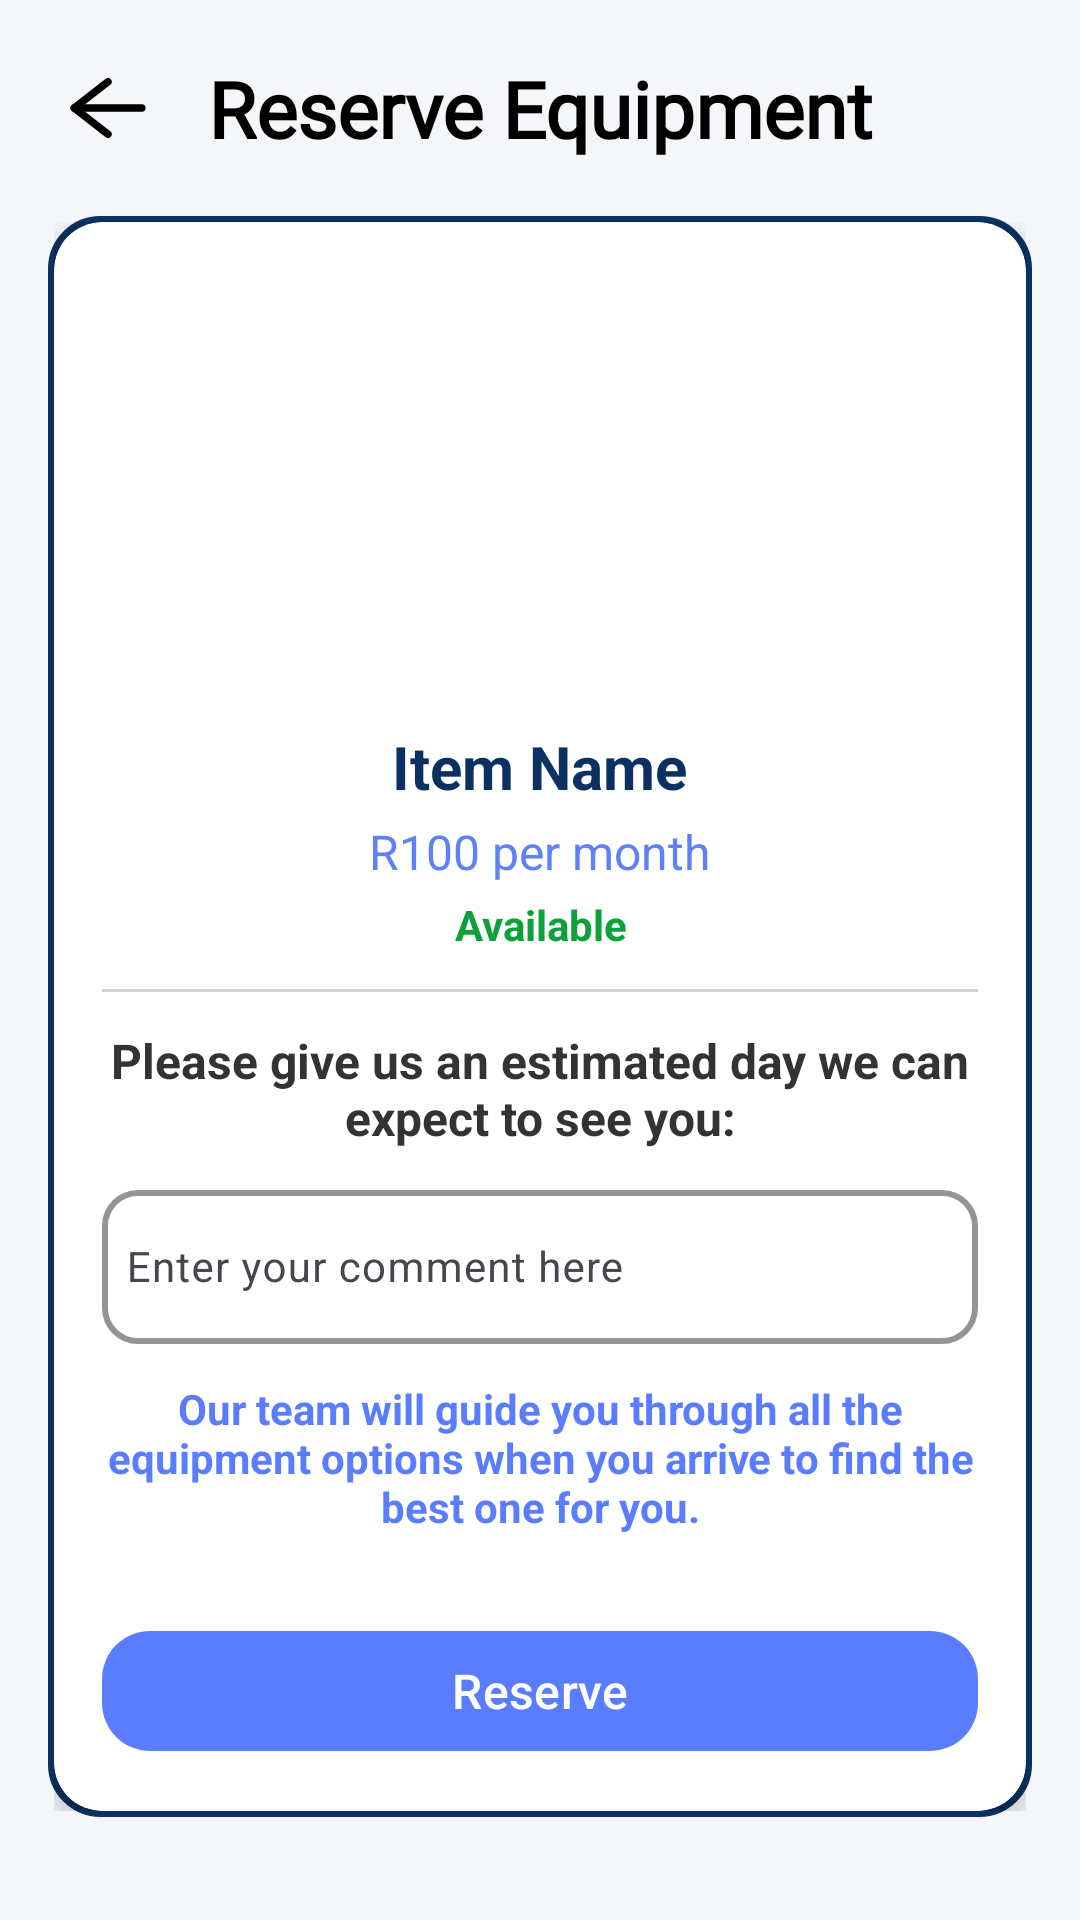

Point at icon controls on the screen. Image size 1080 x 1920, points as (x,y).
Back: (108,108)
